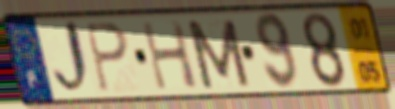8: (301, 10, 347, 90)
9: (254, 10, 302, 93)
H: (138, 19, 201, 93)
J: (51, 17, 95, 101)
M: (183, 17, 254, 91)
P: (82, 20, 132, 96)
